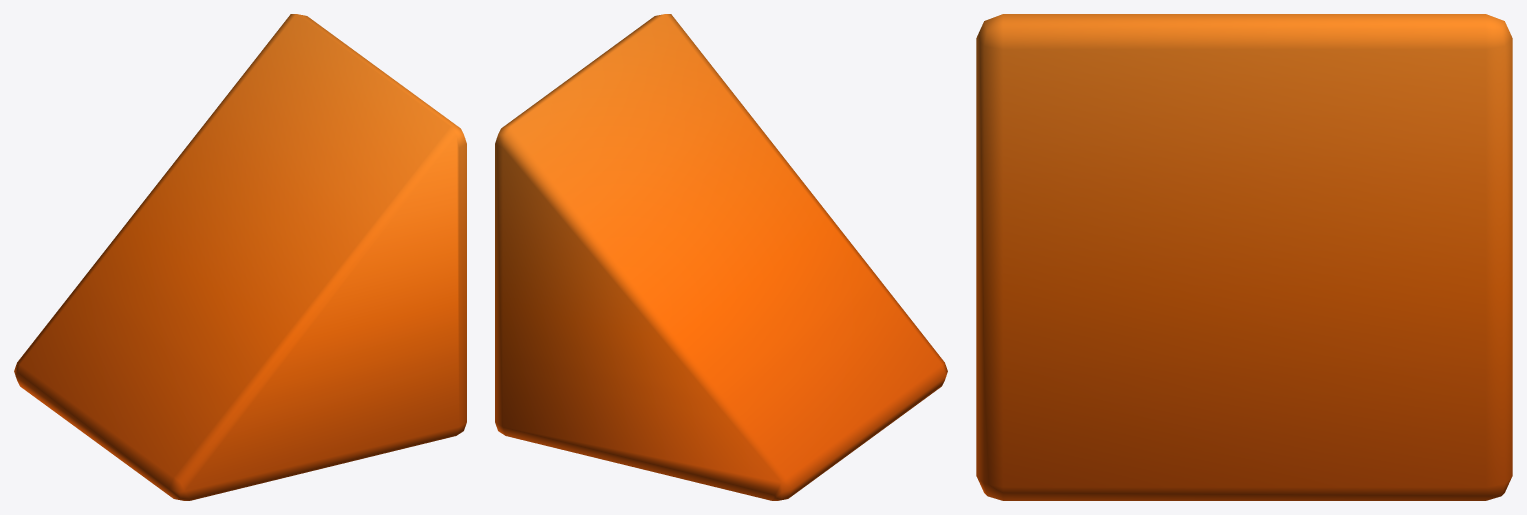
File: 3D_Tile_Ground_Slope_03.fbx
The picture shows the model from 3 angles, left to right: view 1: azimuth 30°, elevation 25°; view 2: azimuth 150°, elevation 25°; view 3: azimuth 270°, elevation 25°; orthographic projection. The views are drawn at different scales.
Parts seen in each view (by area): view 1: 3D_Tile_Ground_Slope_03; view 2: 3D_Tile_Ground_Slope_03; view 3: 3D_Tile_Ground_Slope_03.
Part boxes in pixels (x1,y1,x2,y2): 3D_Tile_Ground_Slope_03: [14, 14, 466, 500]; 3D_Tile_Ground_Slope_03: [495, 14, 947, 500]; 3D_Tile_Ground_Slope_03: [976, 14, 1512, 500].
Bounding box in the file's own units: 200 × 200 × 200.
